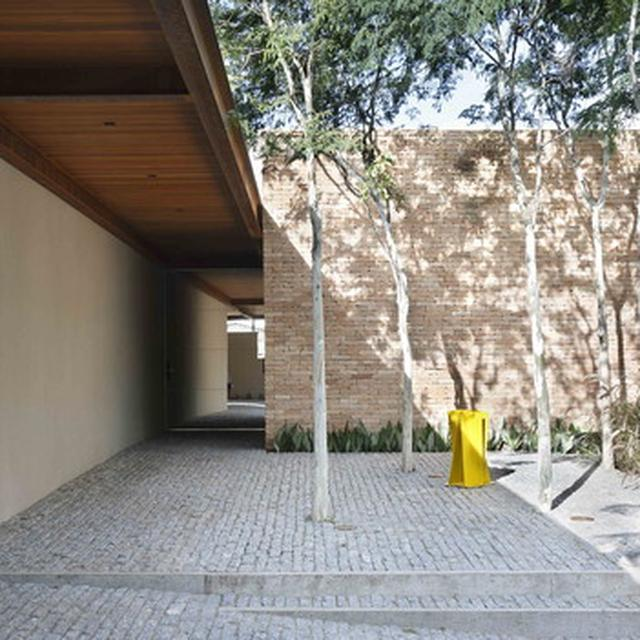building: (252, 119, 640, 450)
